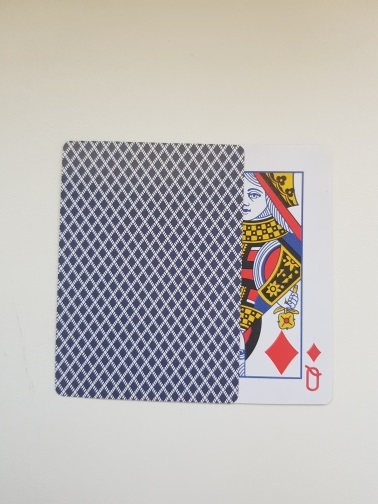queen: (151, 145, 333, 407)
